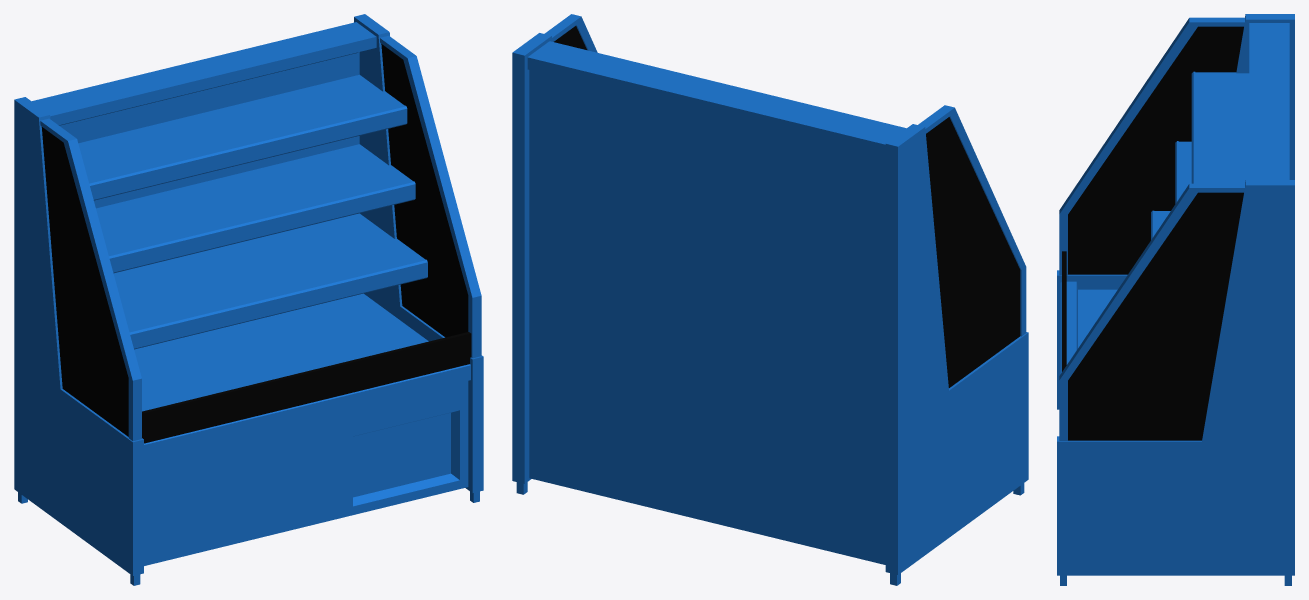
The model's file is PPM_finished_product_cabinet.fbx.
3 renders of one model, left to right at view 1: azimuth 30°, elevation 25°; view 2: azimuth 150°, elevation 25°; view 3: azimuth 270°, elevation 25°, orthographic. The views are drawn at different scales.
Parts seen in each view (by area): view 1: Cube_26; view 2: Cube_26; view 3: Cube_26.
Part boxes in pixels (left/top/right/bottom): Cube_26: left=14, top=14, right=483, bottom=585; Cube_26: left=512, top=14, right=1028, bottom=585; Cube_26: left=1057, top=14, right=1294, bottom=585.
Bounding box in the file's own units: 174 × 190 × 102.
